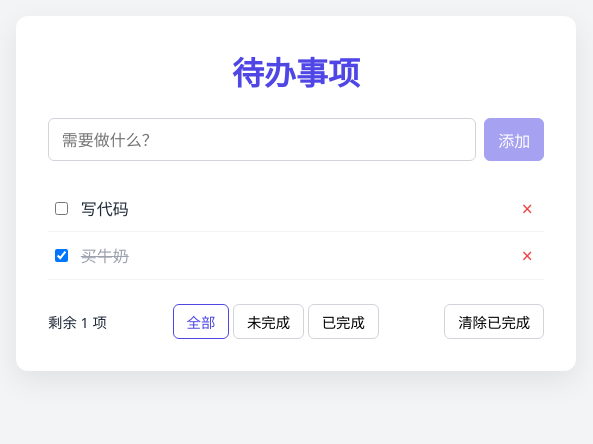
Scenario: App › adds a todo
Check: the text "写代码" is shown, box x1=81 y1=196 x2=129 y2=220
In the field named "新任务": [262, 140] box x1=48 y1=118 x2=476 y2=161, type "  学习 React  "
Then press Enter
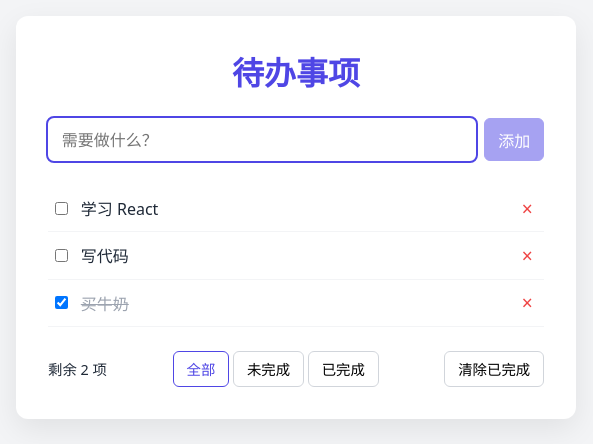
Check: the text "学习 React" is shown, box x1=81 y1=196 x2=158 y2=220
Check: the list item "学习 React ×" is shown, box x1=48 y1=185 x2=544 y2=232
Check: the text "剩余 2 项" is shown, box x1=48 y1=358 x2=107 y2=379
